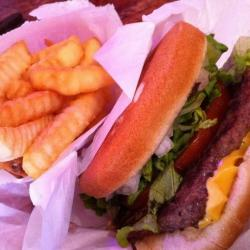burger: (93, 16, 249, 250)
fries: (1, 35, 105, 177)
